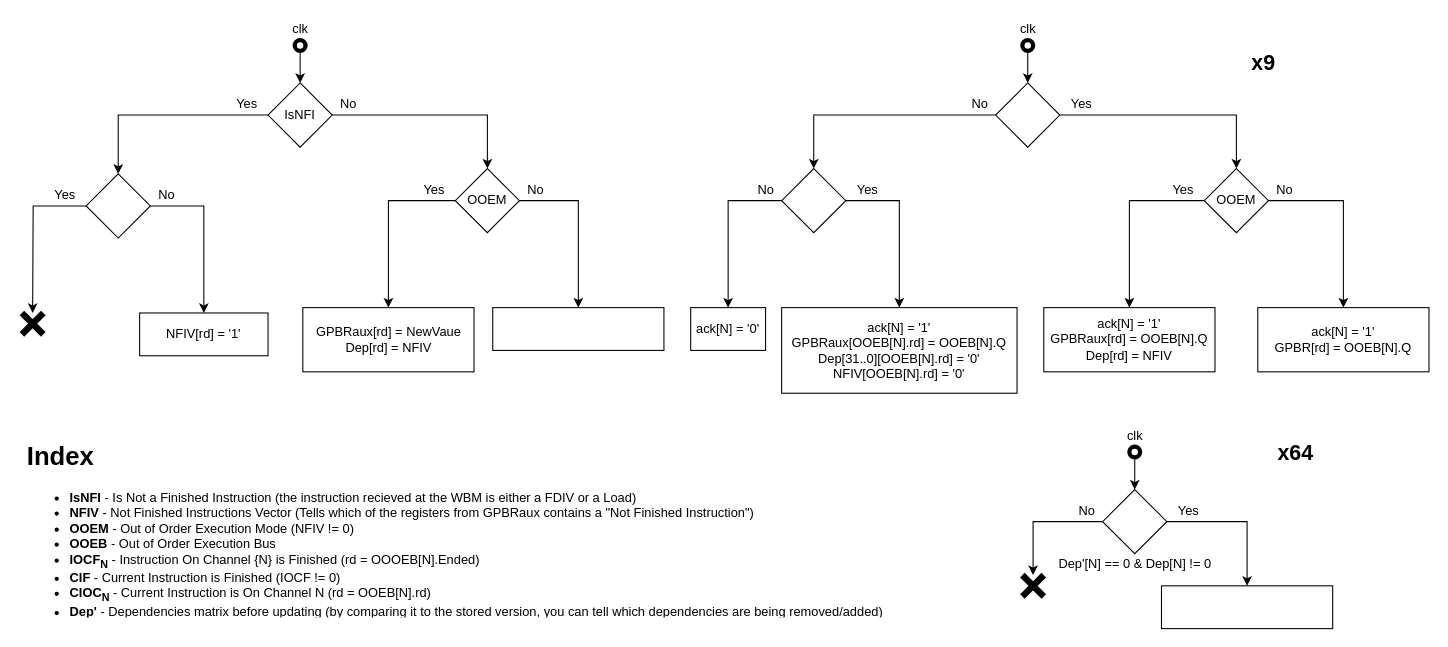
Some shapes in this 1448 by 647 pixel diagram are drawn without their labels. The centre of each missing label's shape, as x and y in pixels:
"CIF" belongs at (x=117, y=205).
"CIOC N" belongs at (x=1027, y=114).
"GPBR[N] = GPBRaux[N]" belongs at (x=1246, y=607).
"GPBR[rd] = NewVaue" belongs at (x=578, y=328).
"IOCF N" belongs at (x=813, y=200).
